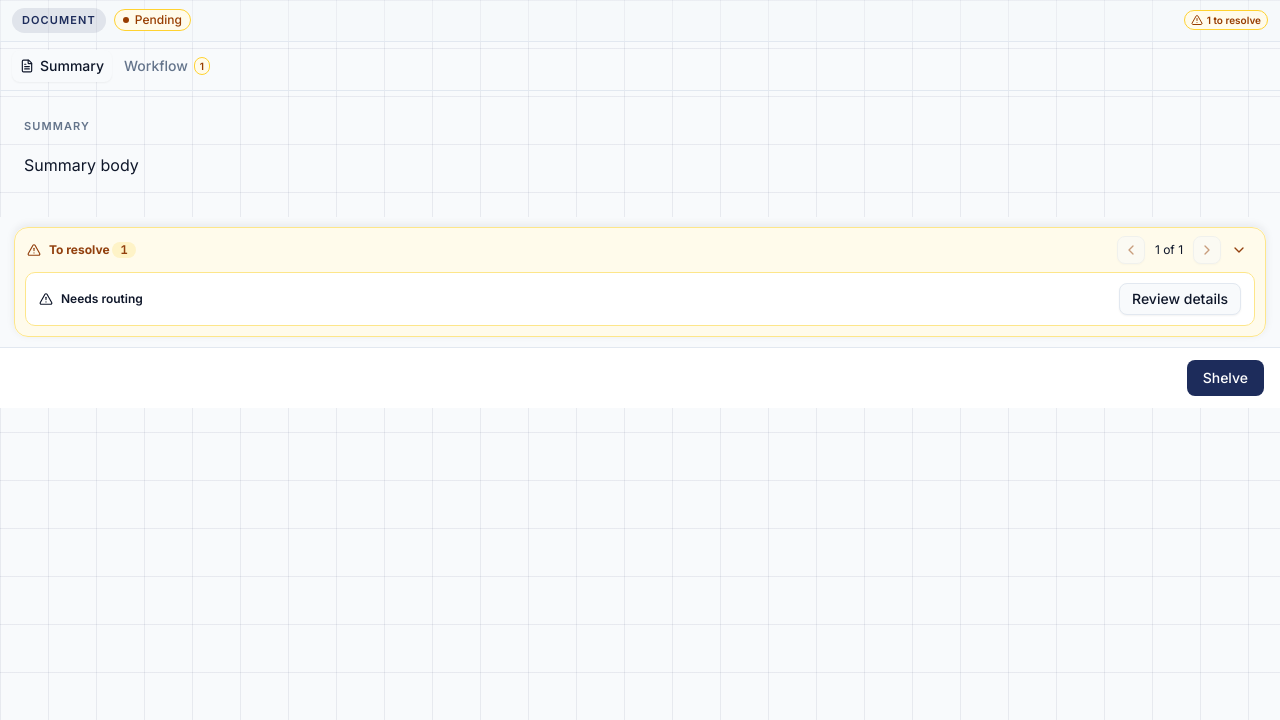
Test: DocumentPanelRenderer › Review details › switches to the alert's tab before revealing its section and focusing the heading
Check: the text "Workflow body" is not shown
Click the button "Review details" at (1180, 298), box [1119,282,1241,314]
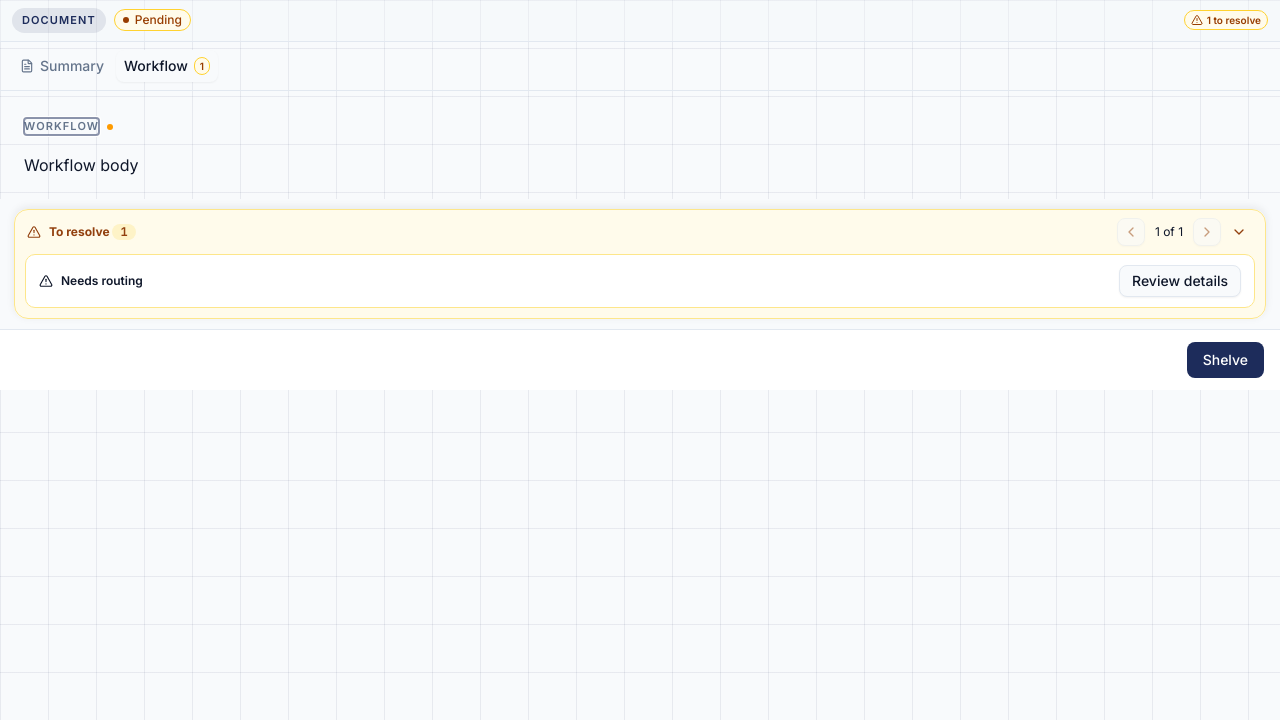
Check: the text "Workflow body" is shown, box [24,154,139,174]
